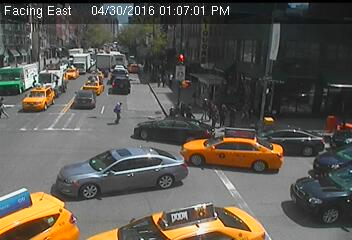neg: (76, 87, 99, 118), (231, 46, 254, 77), (169, 196, 191, 225), (280, 154, 301, 183), (198, 38, 219, 66), (321, 114, 342, 142), (307, 68, 326, 93), (7, 47, 26, 72), (243, 104, 261, 129), (43, 161, 61, 184), (259, 111, 276, 134), (24, 88, 41, 110), (176, 63, 192, 85), (44, 120, 60, 141), (140, 124, 155, 144), (111, 54, 124, 72), (65, 56, 76, 70)
pos: (196, 95, 216, 122), (108, 99, 128, 124), (215, 101, 234, 125), (206, 102, 223, 126), (225, 102, 241, 124), (182, 101, 196, 119), (152, 71, 165, 88)
